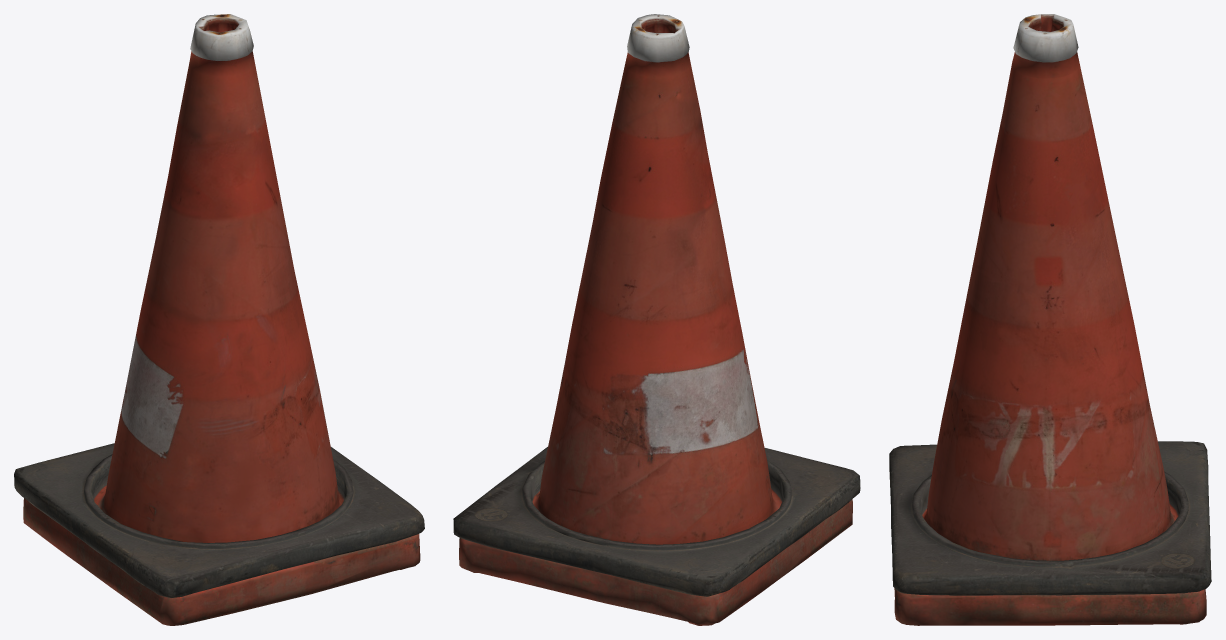
Rendered from TrafficCone.obj.
3 renders of one model, left to right at view 1: azimuth 30°, elevation 25°; view 2: azimuth 150°, elevation 25°; view 3: azimuth 270°, elevation 25°, orthographic. The views are drawn at different scales.
Visible parts, largest first — view 1: ueppabufa_LOD0_TIER3_000; view 2: ueppabufa_LOD0_TIER3_000; view 3: ueppabufa_LOD0_TIER3_000.
Boxes of the visible parts, <box> form: ueppabufa_LOD0_TIER3_000: <box>14,14,424,625</box>; ueppabufa_LOD0_TIER3_000: <box>453,14,860,625</box>; ueppabufa_LOD0_TIER3_000: <box>889,14,1211,625</box>.
Size of the model in its own units: 0.4162 by 0.7657 by 0.4165.
Materials: 1 (1 with a texture image).
